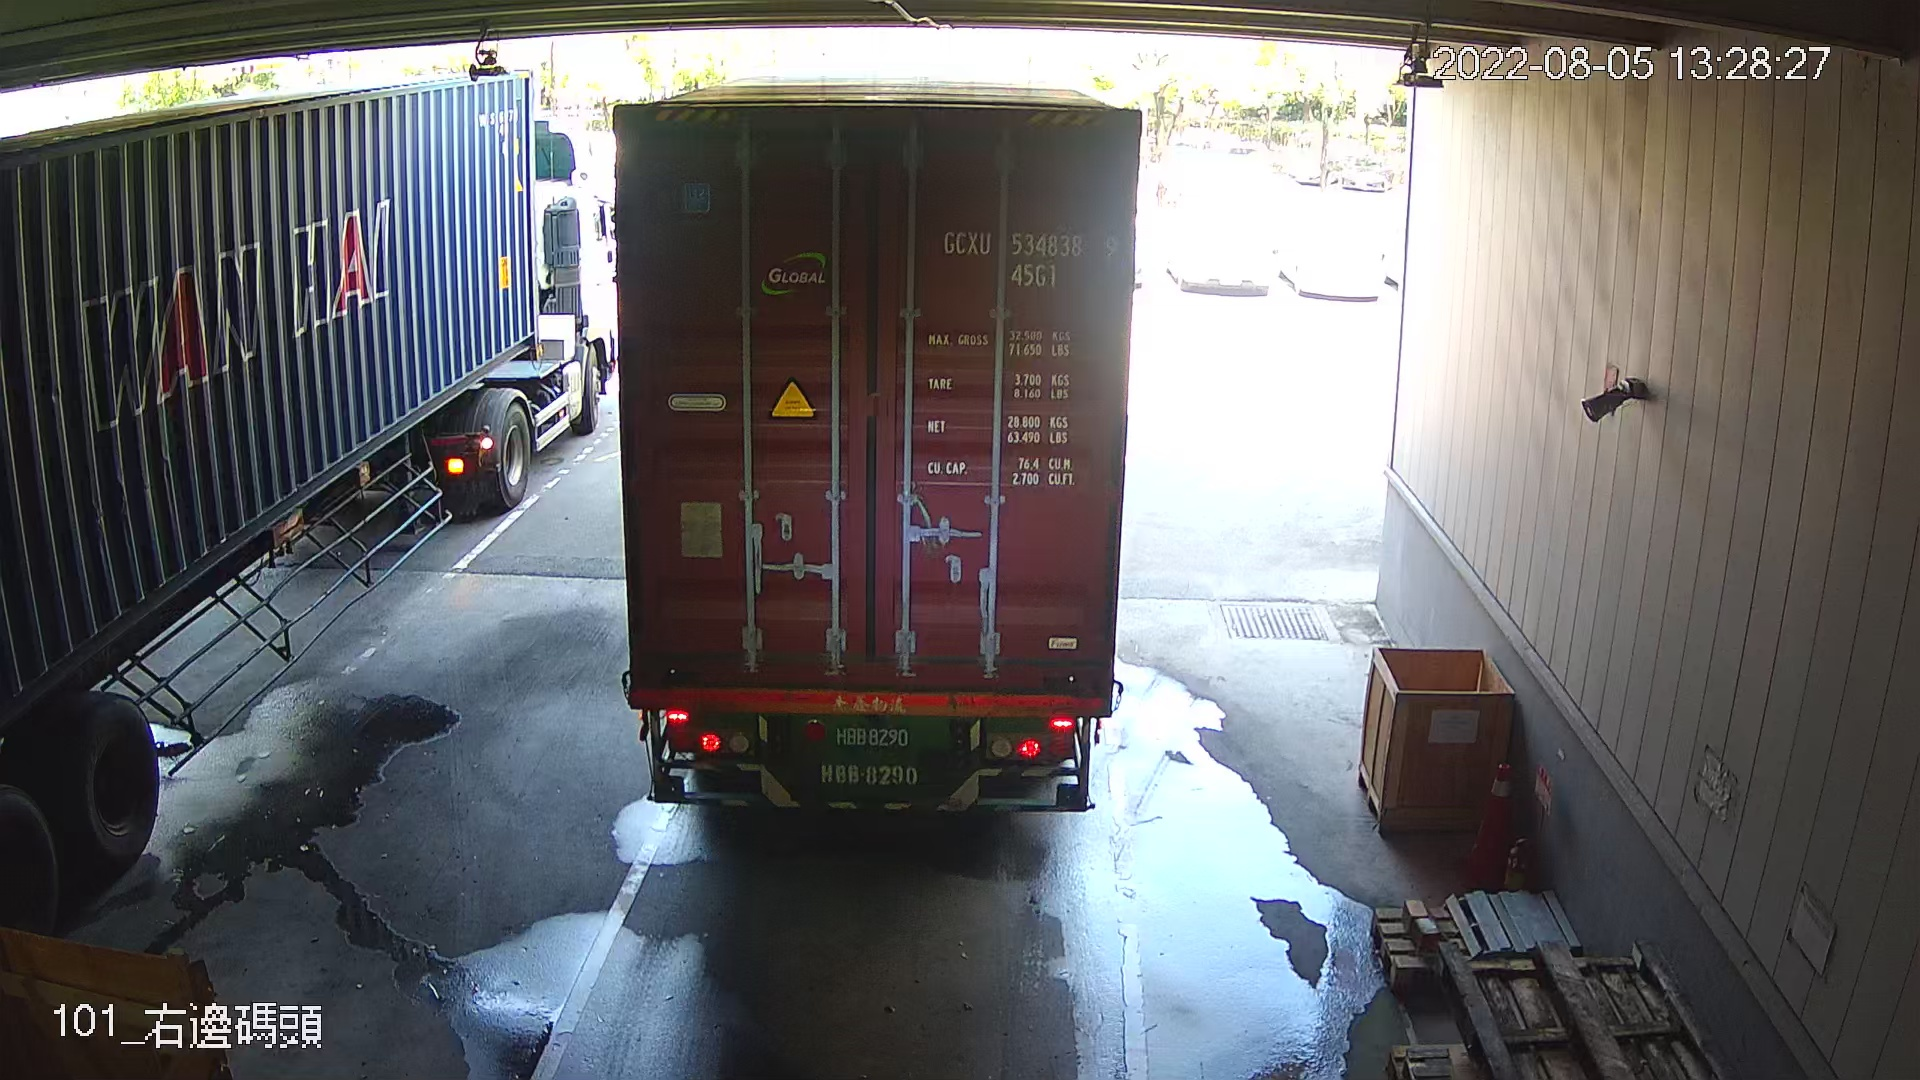container: (932, 214, 1127, 299)
